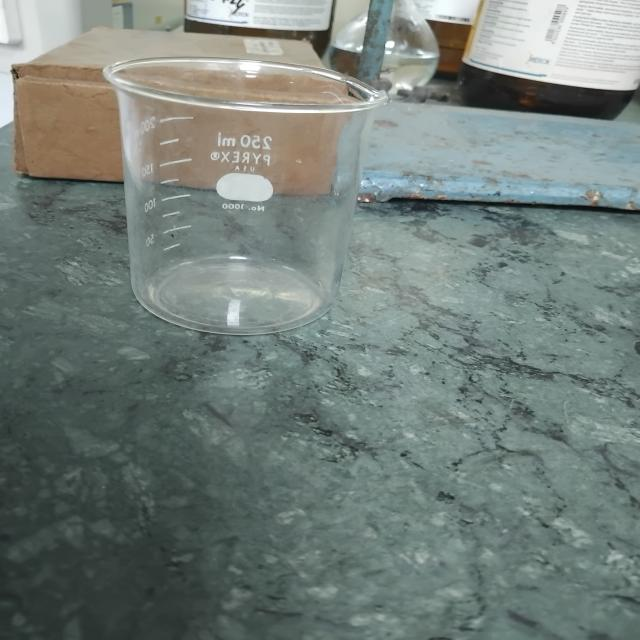Beaker: (67, 38, 400, 361)
